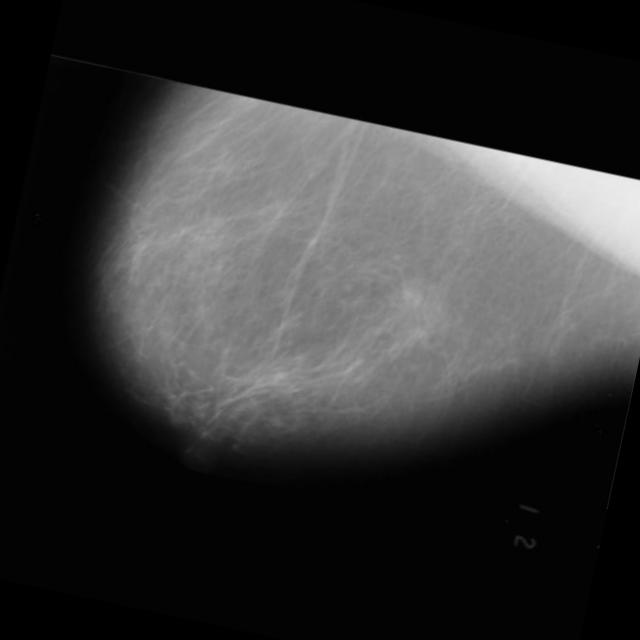ARCH: (391, 274, 442, 326)
